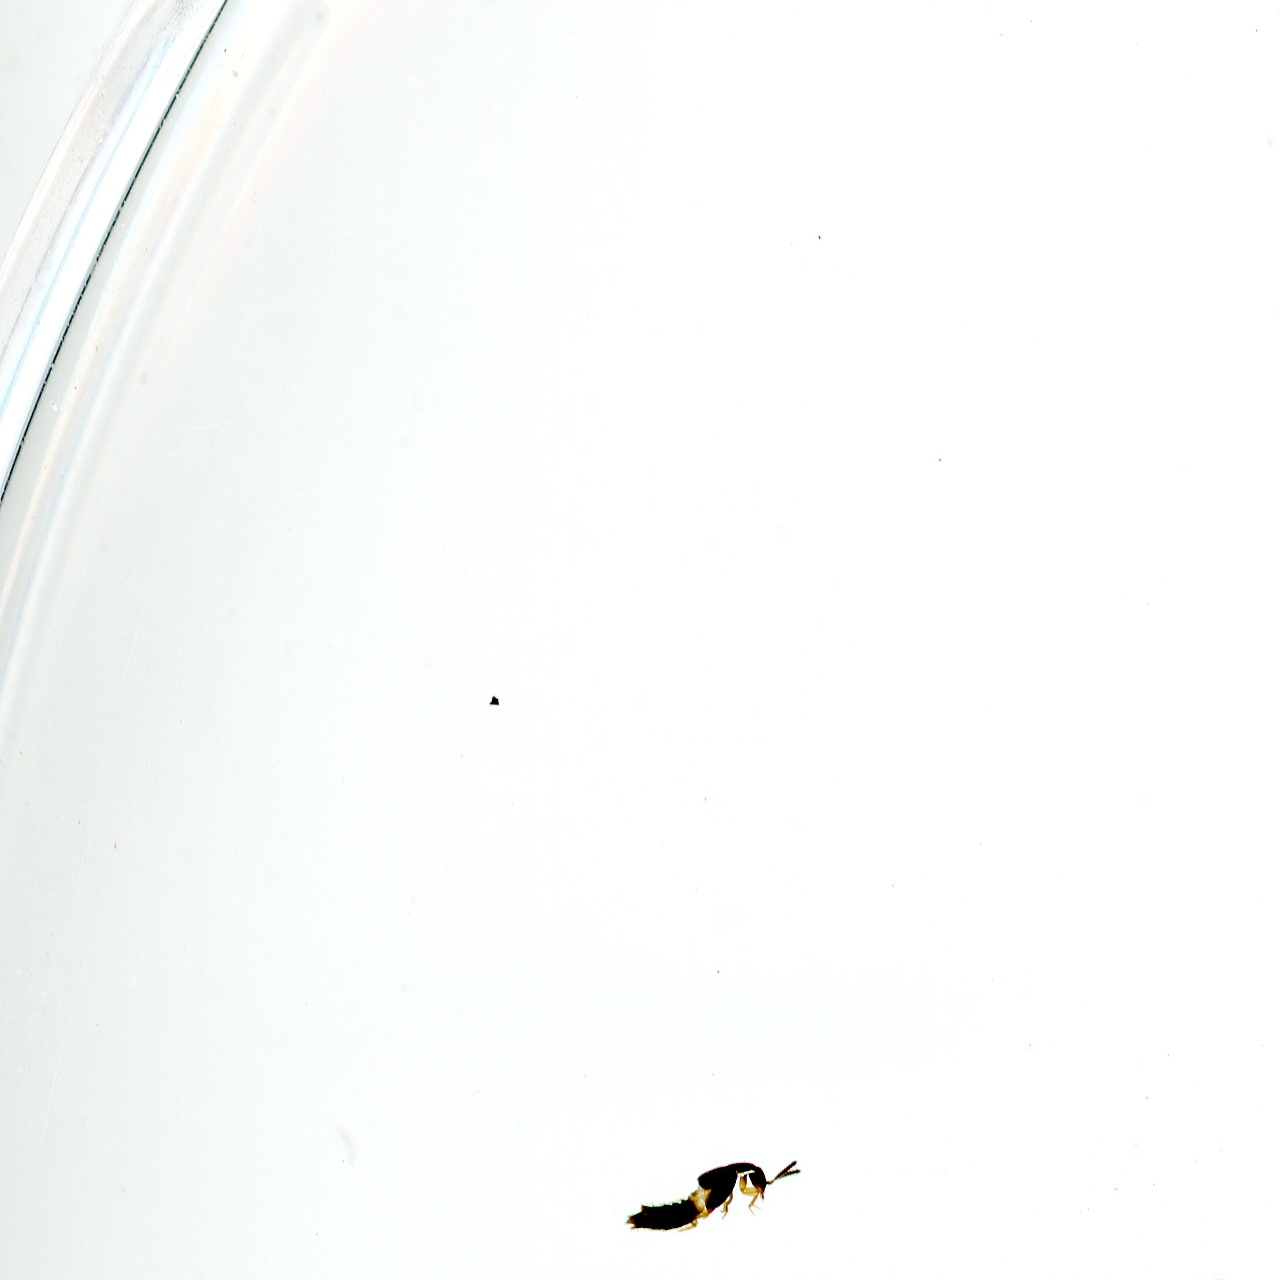arthropod: (621, 1153, 804, 1239)
